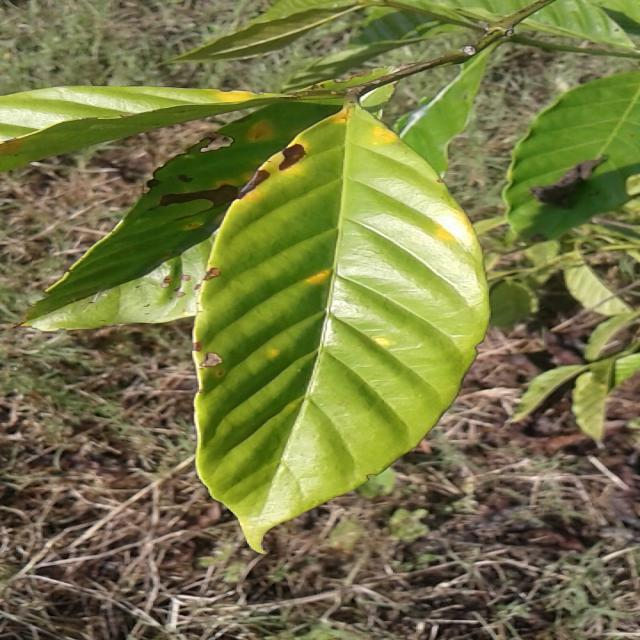Enfermedad-Roya: (196, 104, 492, 554)
